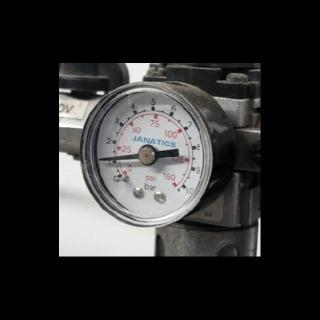gauge: (62, 80, 216, 234), (168, 176, 190, 198), (137, 144, 157, 166), (114, 169, 134, 186), (96, 155, 106, 163)
